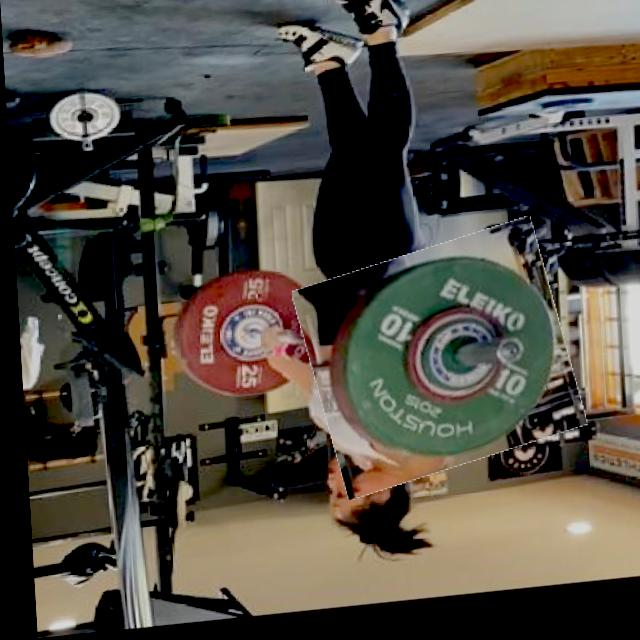barbell: (296, 237, 574, 499)
